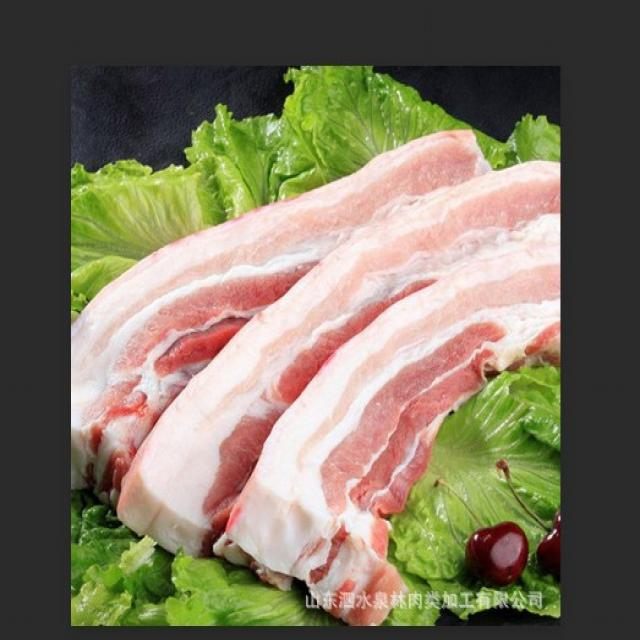Pork: (82, 160, 542, 543)
